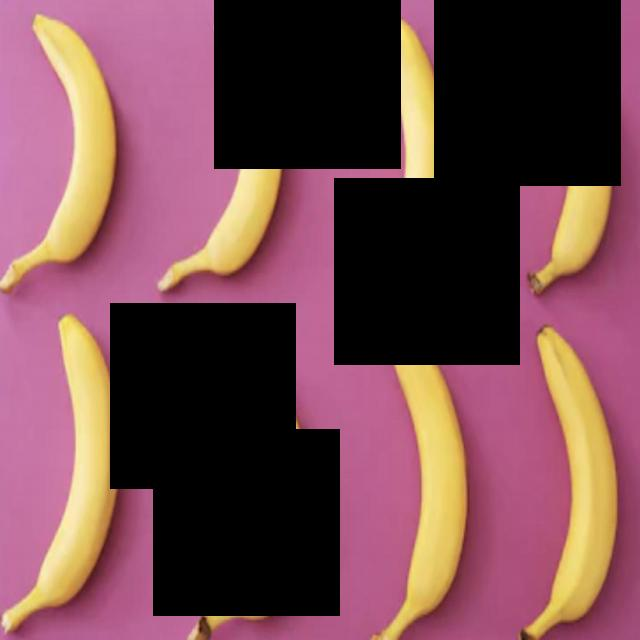banana: (0, 4, 154, 309), (7, 319, 128, 638), (170, 5, 291, 317), (354, 0, 468, 306), (196, 324, 307, 638), (367, 326, 476, 639), (522, 326, 624, 620), (532, 4, 624, 298)
